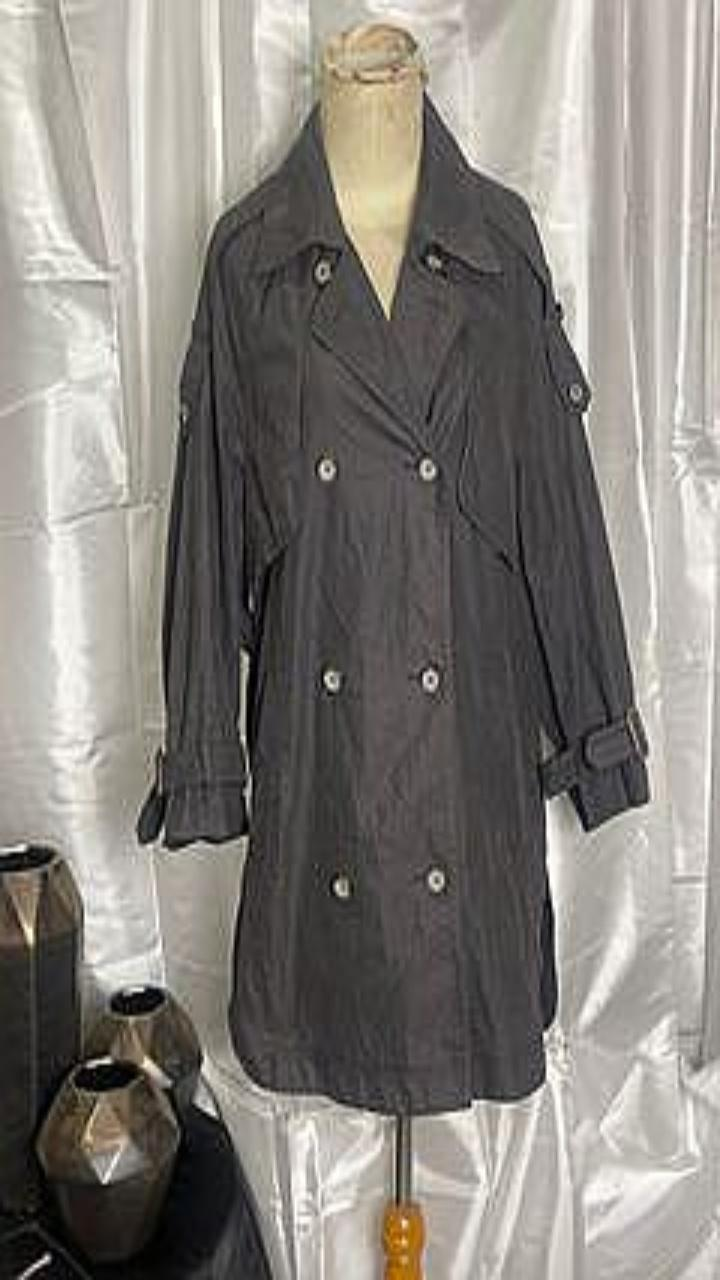Coat: (138, 92, 649, 1113)
